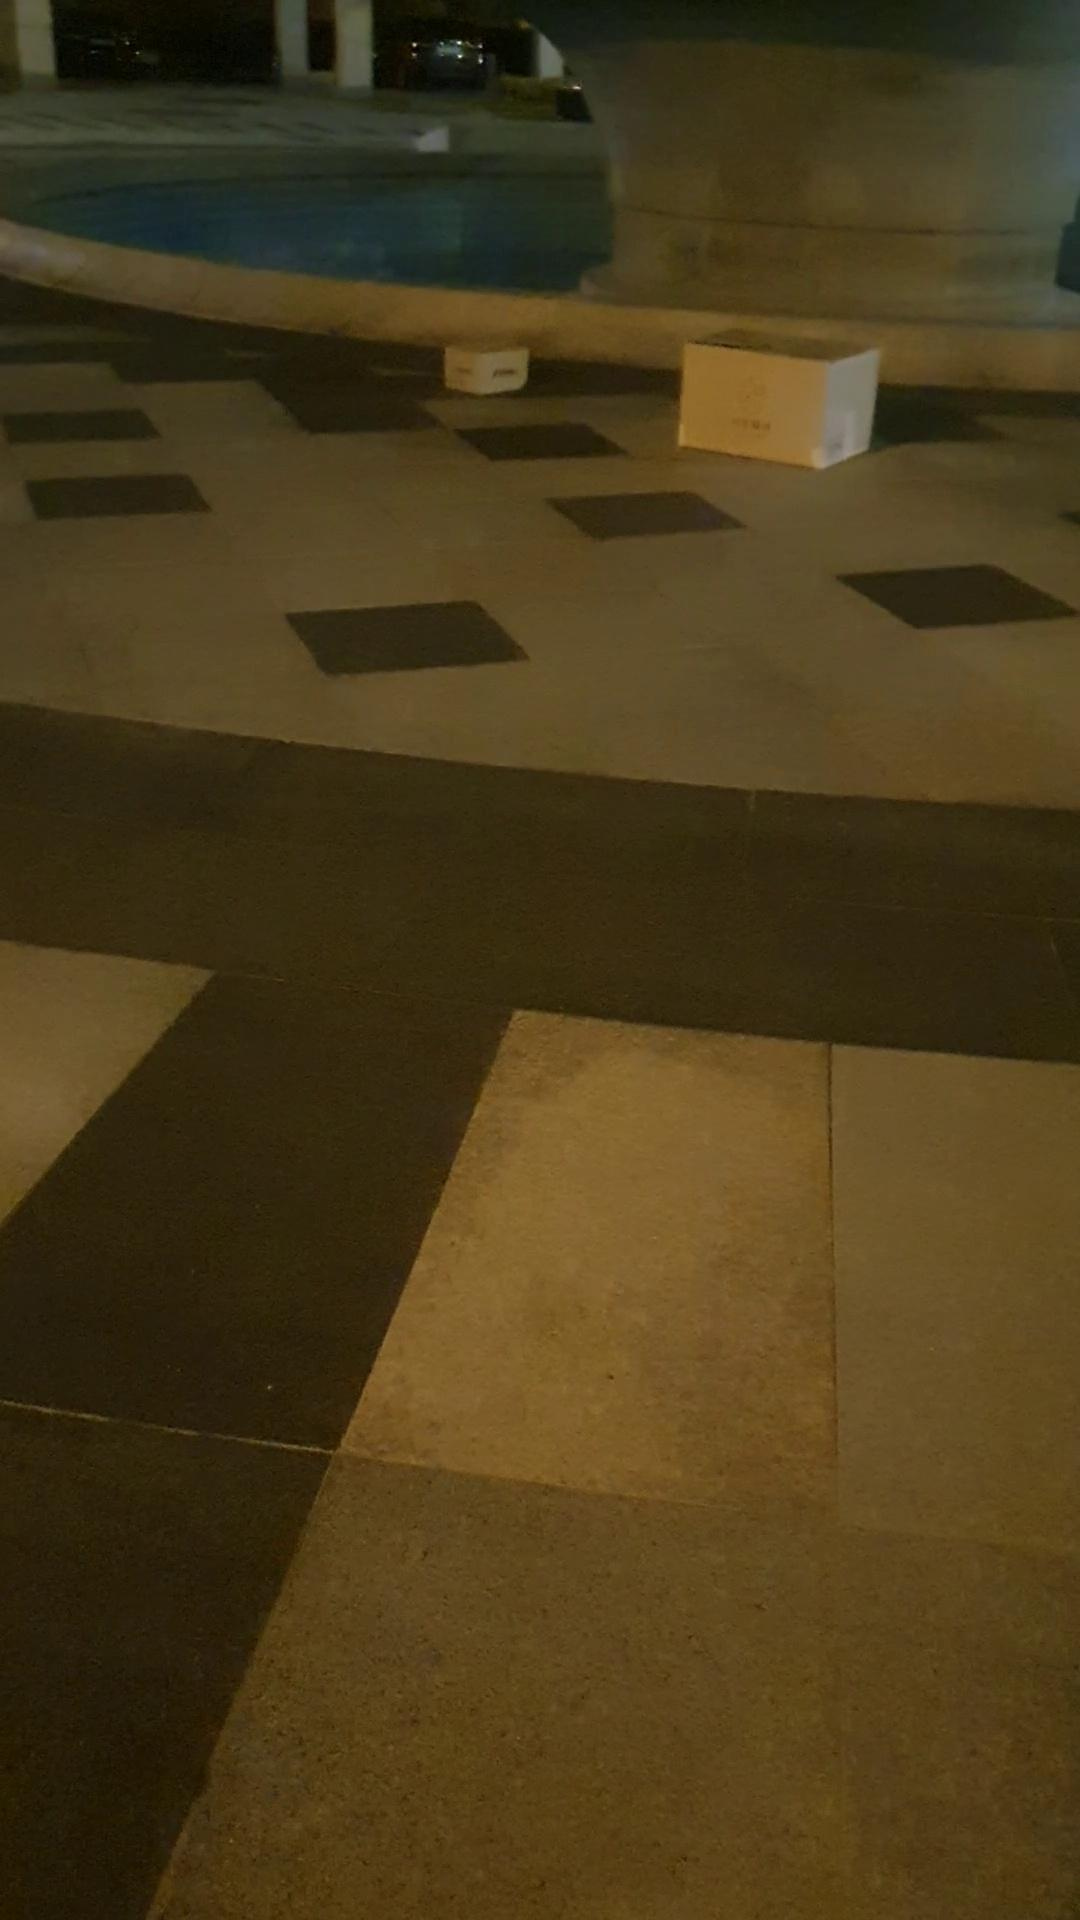Box: (673, 315, 889, 475), (431, 330, 530, 400)
